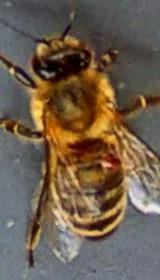varroa_mite: (91, 140, 132, 182)
